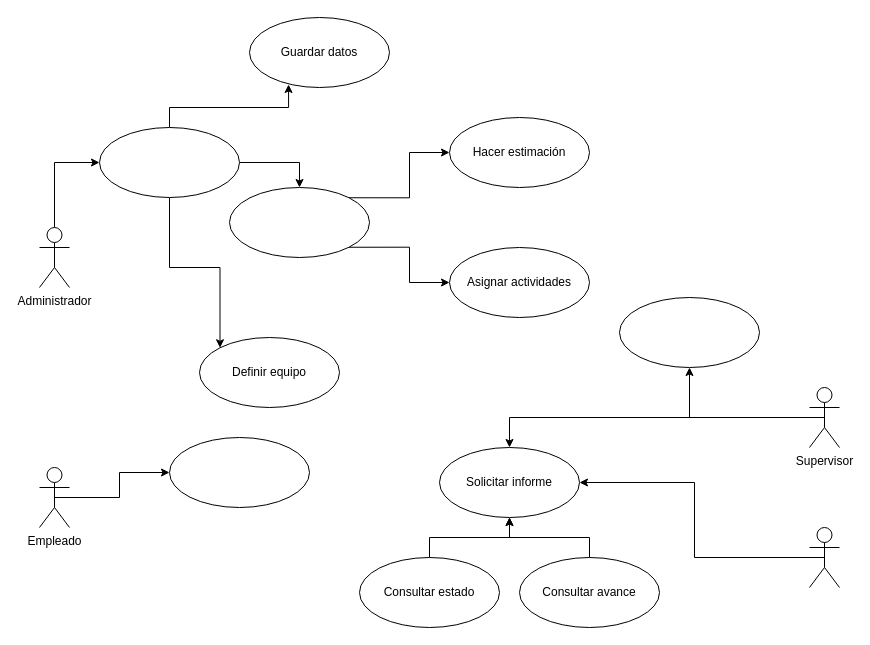
Some shapes in this 870 by 645 pixel diagram are drawn without their labels. The shapes that lost their labels are listed below. From the top down, each one's centre as x and y in pixels, then its label:
At point 169,162: "Definir proyecto".
At point 299,222: "Definir actividades".
At point 689,332: "Asignar tarea".
At point 239,472: "Registrar avance".
At point 824,557: "Cliente".
